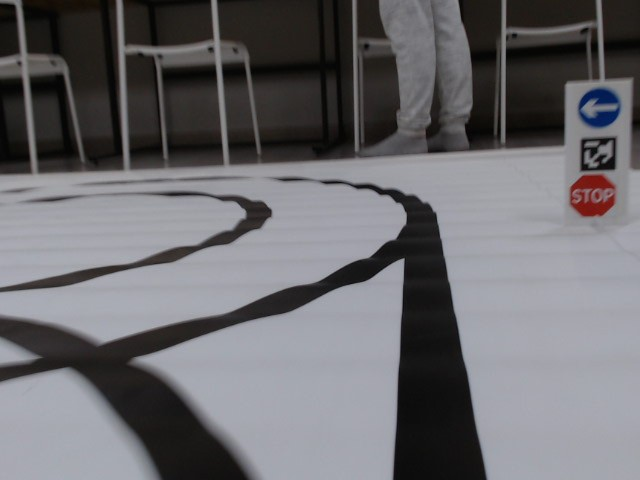Stop: (568, 173, 618, 219)
